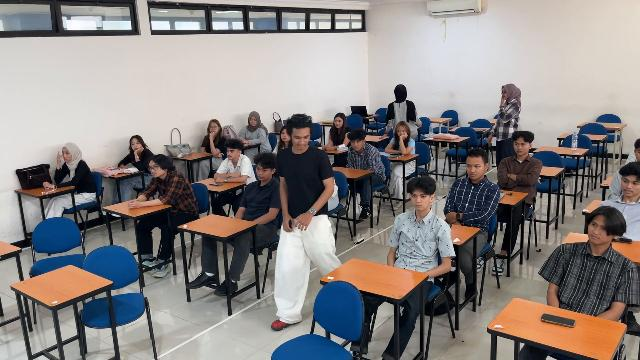fokus: (588, 216, 608, 243), (621, 175, 638, 197), (410, 191, 429, 210), (466, 158, 482, 179), (513, 140, 529, 155), (149, 160, 163, 176), (256, 165, 269, 180), (280, 130, 291, 141), (226, 147, 236, 159), (62, 147, 70, 161), (350, 140, 361, 150), (397, 126, 407, 137), (132, 139, 141, 150), (334, 117, 343, 128), (210, 123, 218, 133), (250, 116, 257, 126)
